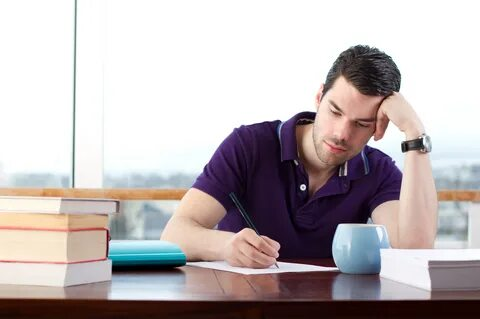awake: (159, 43, 438, 270)
